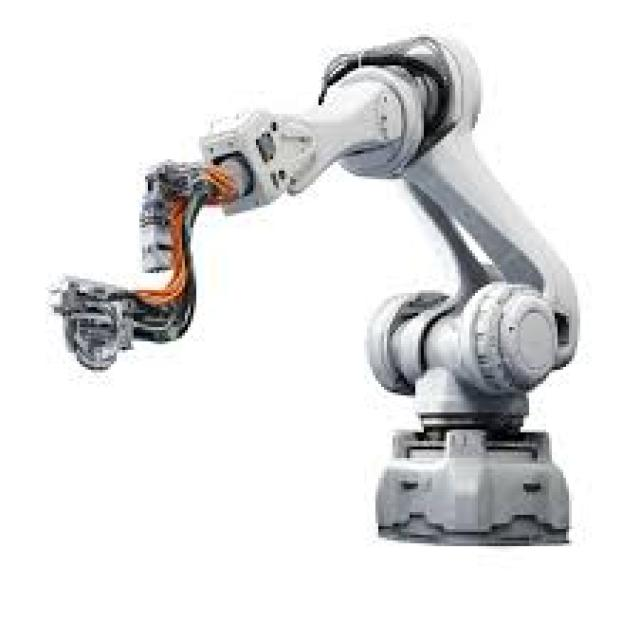Robotic-arm: (41, 26, 584, 552)
